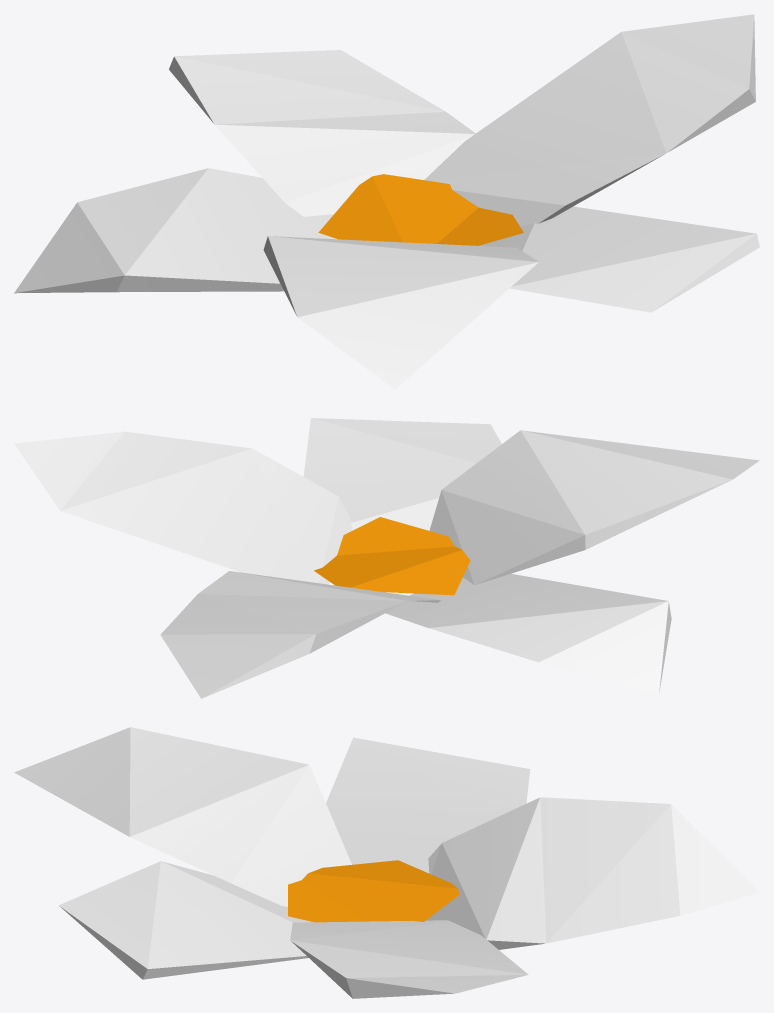
The model's file is flower_02.glb.
3 renders of one model, top to bottom at view 1: azimuth 30°, elevation 25°; view 2: azimuth 150°, elevation 25°; view 3: azimuth 270°, elevation 25°, orthographic. The views are drawn at different scales.
Visible parts, largest first — view 1: Spring_Flower_02_LOD1; view 2: Spring_Flower_02_LOD1; view 3: Spring_Flower_02_LOD1.
Part boxes in pixels (left/top/right/bottom): Spring_Flower_02_LOD1: left=14, top=14, right=759, bottom=389; Spring_Flower_02_LOD1: left=14, top=418, right=759, bottom=698; Spring_Flower_02_LOD1: left=14, top=727, right=759, bottom=998.
Size of the model in its own units: 0.292 by 0.0467 by 0.2825.
Materials: 1 (1 with a texture image).
